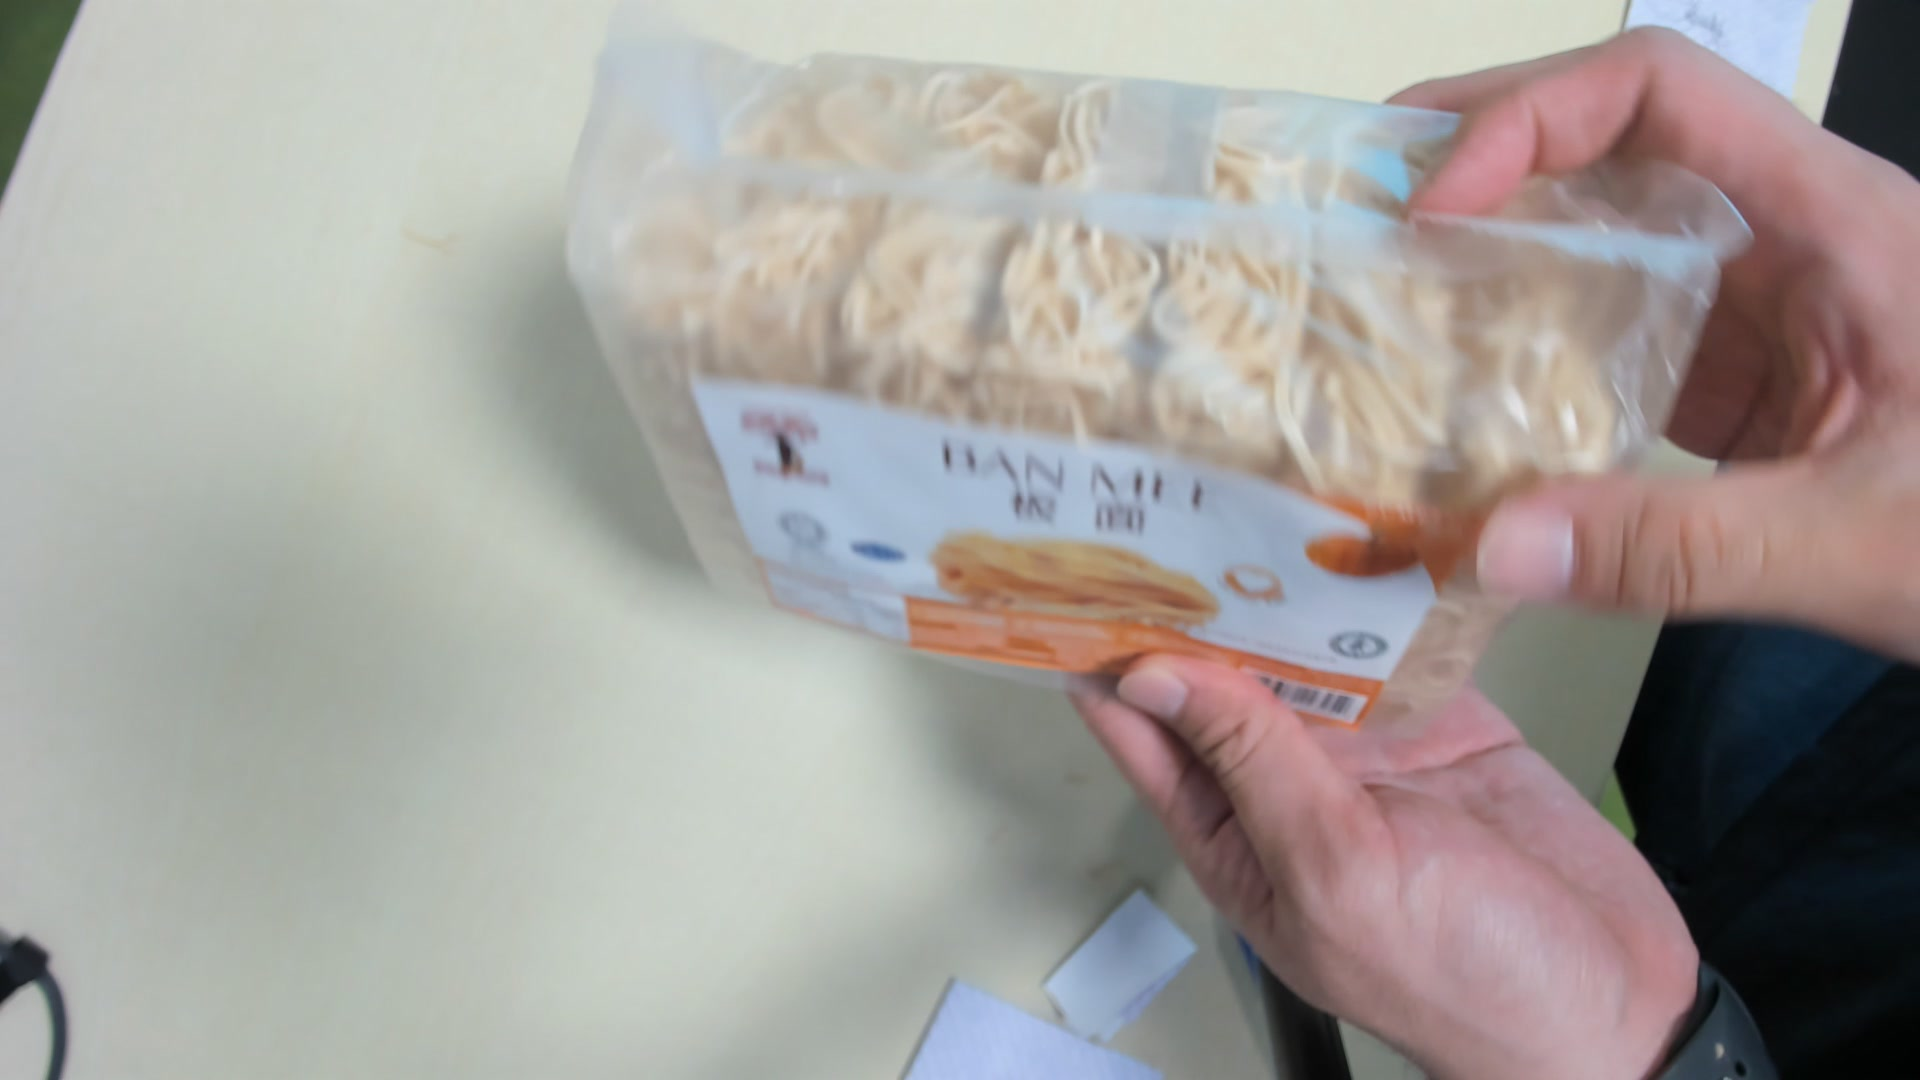OtherNoodles_500-599g_Halal_NonHealthy: (578, 45, 1720, 752)
